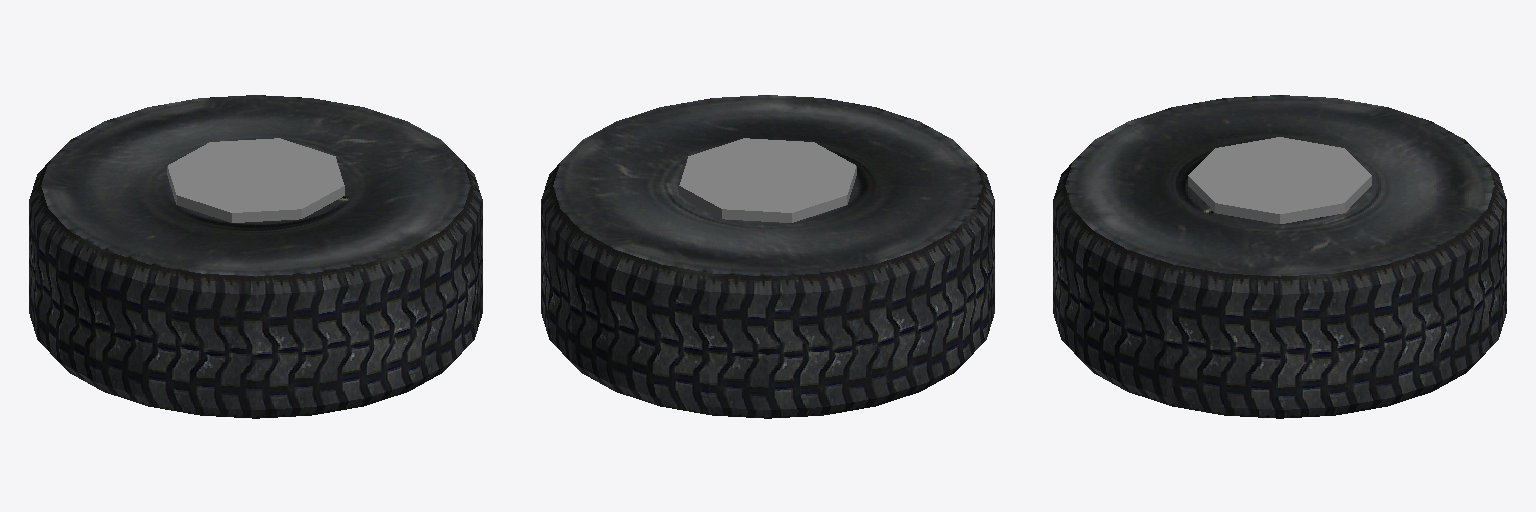
The picture shows the model from 3 angles: view 1: azimuth 30°, elevation 25°; view 2: azimuth 150°, elevation 25°; view 3: azimuth 270°, elevation 25°; orthographic projection.
Size of the model in its own units: 0.798 by 0.3124 by 0.798.
2 materials, 1 textured.